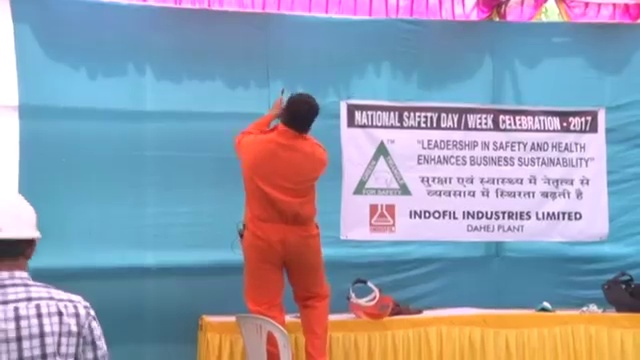helmet: (1, 189, 42, 243)
helmet_off: (278, 90, 320, 136)
helmet_on: (1, 188, 42, 278)
person: (234, 89, 335, 360), (1, 187, 109, 359)
